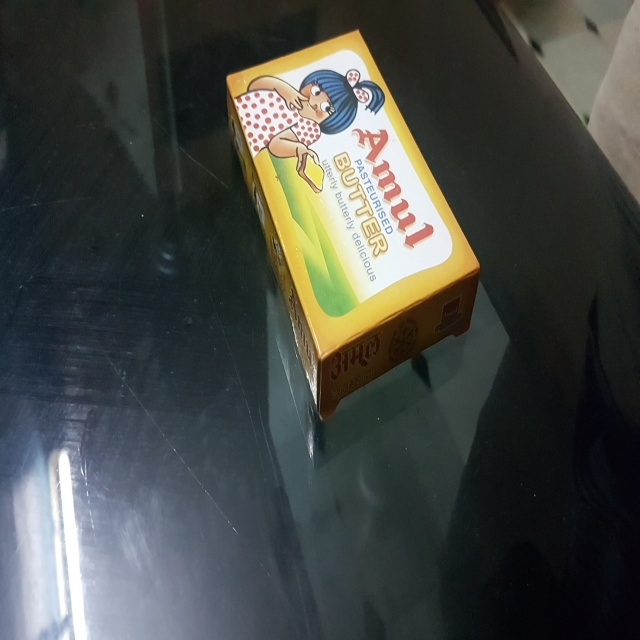butter: (218, 27, 492, 403)
